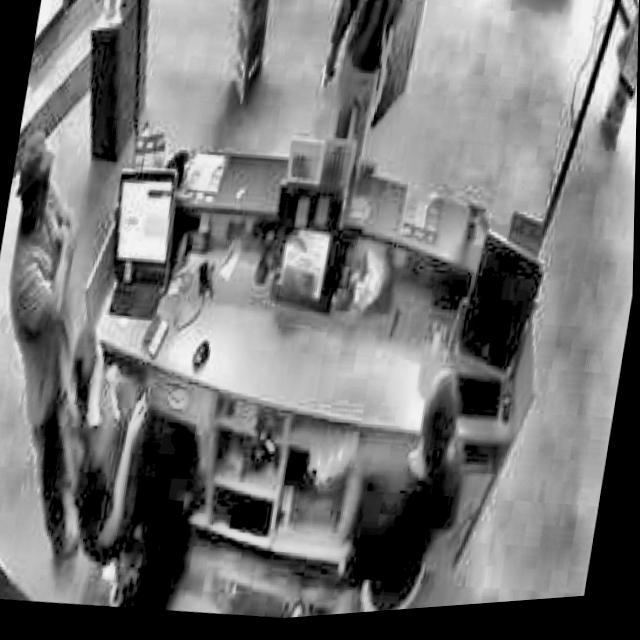robbery: (303, 0, 415, 184)
